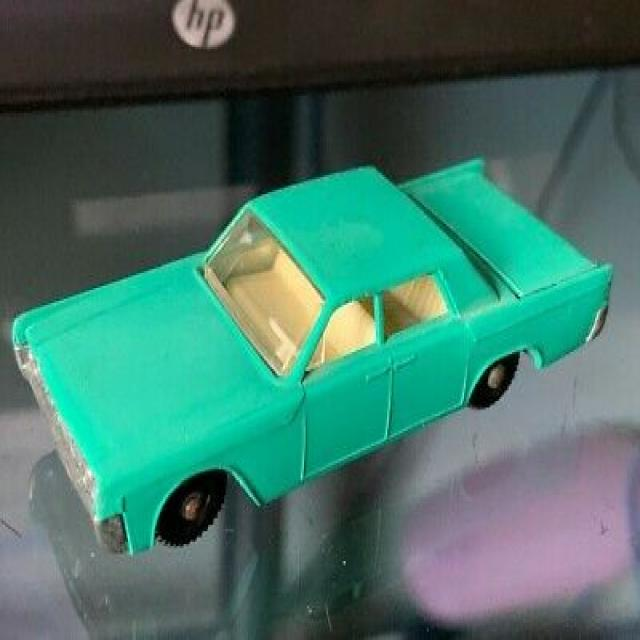Car: (9, 154, 614, 556)
